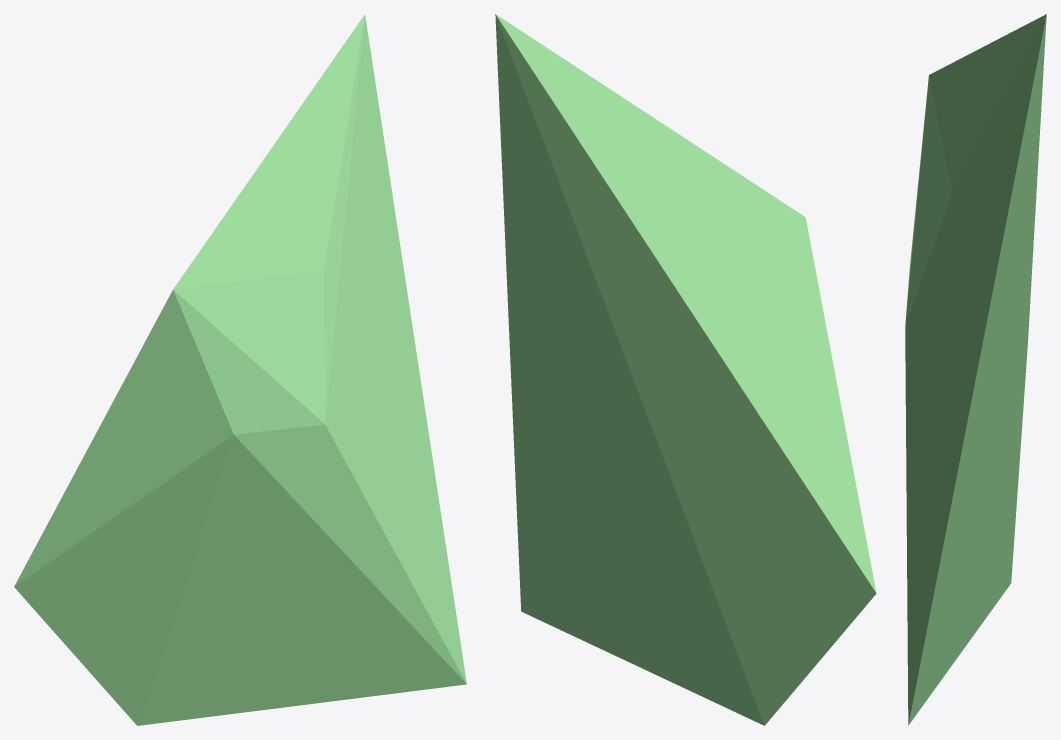
File: linkhou_robot_base_coll_14.dae
The picture shows the model from 3 angles, left to right: view 1: azimuth 30°, elevation 25°; view 2: azimuth 150°, elevation 25°; view 3: azimuth 270°, elevation 25°; orthographic projection. The views are drawn at different scales.
Parts seen in each view (by area): view 1: Node_0000029808437380; view 2: Node_0000029808437380; view 3: Node_0000029808437380.
Part boxes in pixels (bbox=[...]): Node_0000029808437380: bbox=[14, 14, 466, 725]; Node_0000029808437380: bbox=[495, 14, 876, 725]; Node_0000029808437380: bbox=[905, 14, 1046, 725].
Size of the model in its own units: 0.0243 by 0.0374 by 0.00686.
